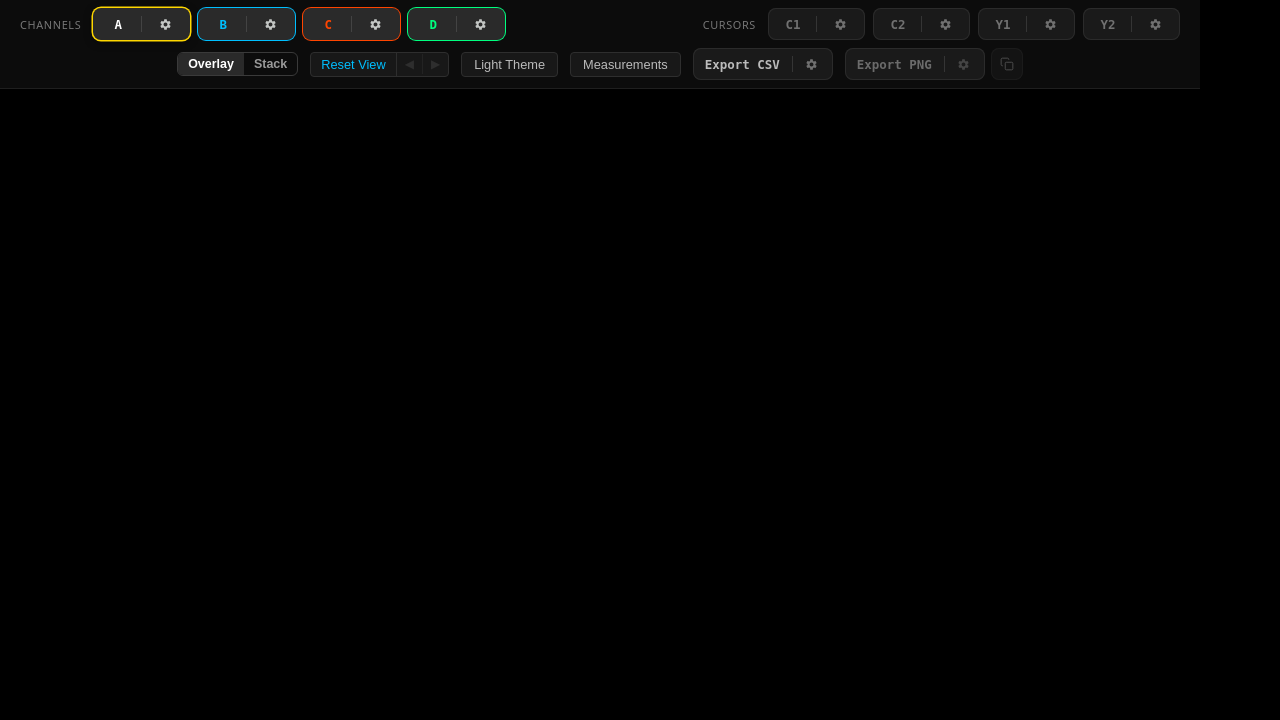
it: Channel display settings (issue #224) › invert flips readouts consistently while scale/offset never alter them
The width and height of the screenshot is (1280, 720).
Step 1. Click the button named "Configure Channel D" → (481, 24), box x1=457 y1=0 x2=505 y2=48
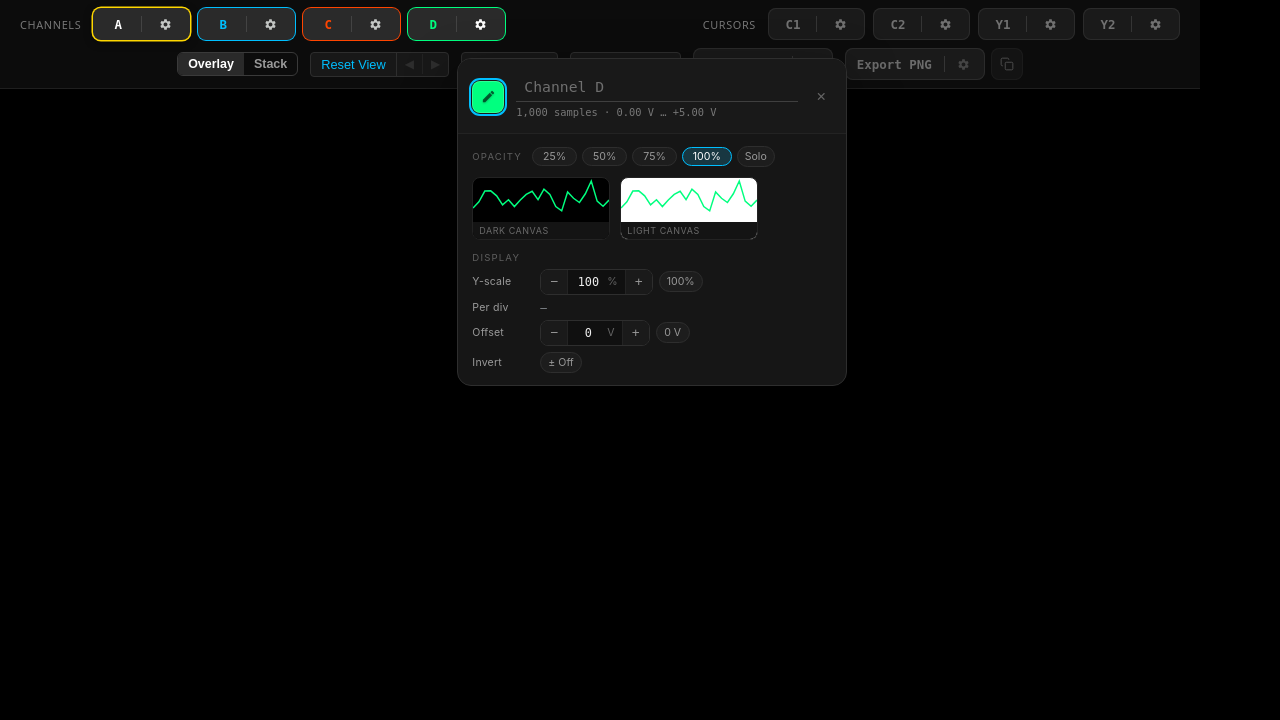
Check: the element with test id "channel-stats" does not show "−5.00"
Check: the text with test id "channel-stats" shows "+5.00 V", box x1=516 y1=106 x2=717 y2=118
Step 2. Click the button with test id "invert-toggle" → (561, 362), box x1=540 y1=352 x2=582 y2=373
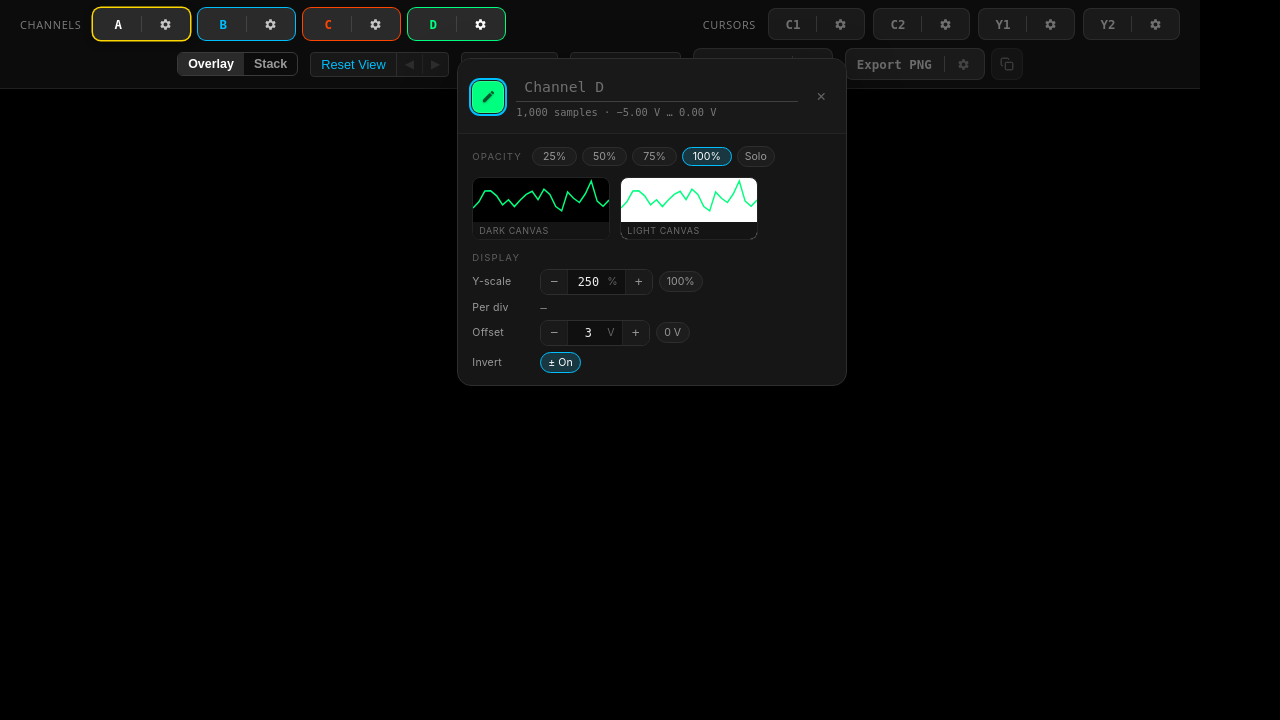
Check: the text with test id "channel-stats" shows "−5.00", box x1=516 y1=106 x2=717 y2=118
Check: the text with test id "channel-stats" no longer shows "+5.00"
